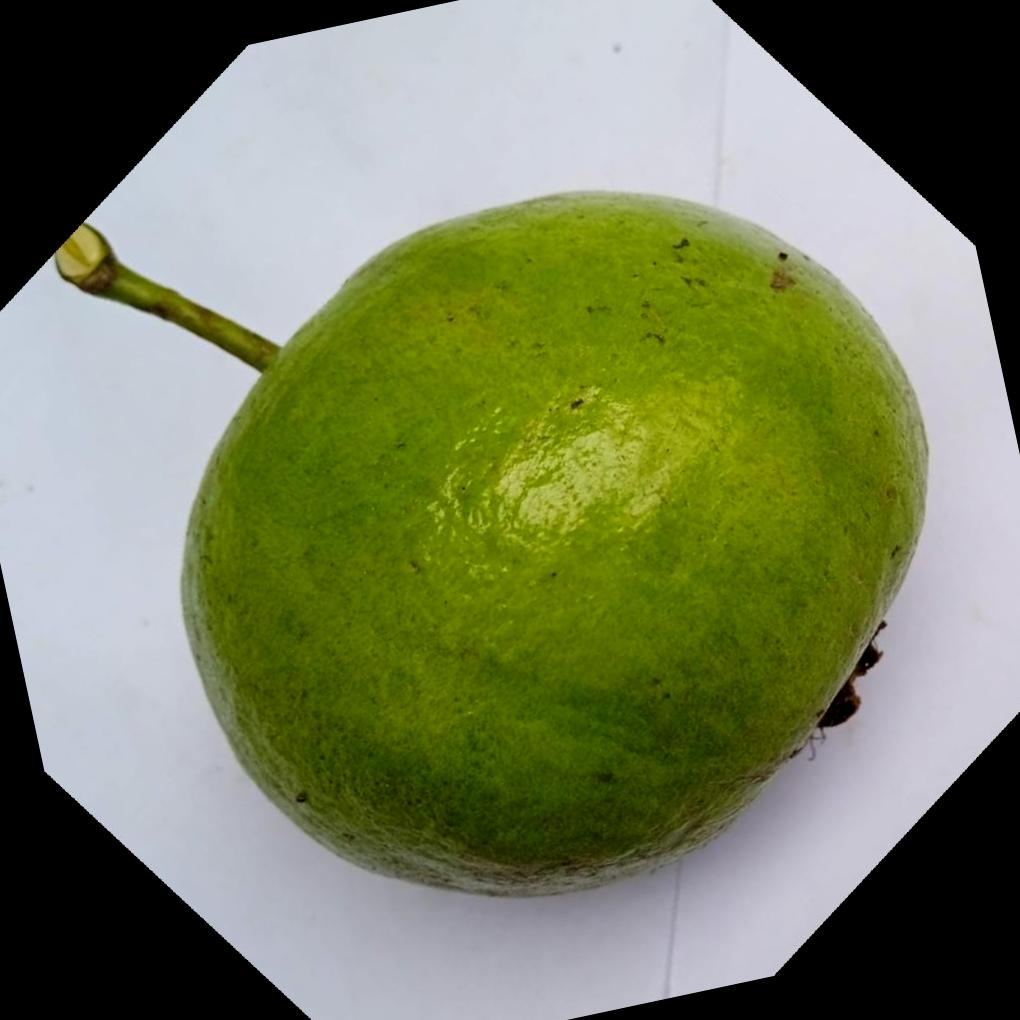FreshGuava: (178, 191, 930, 902)
